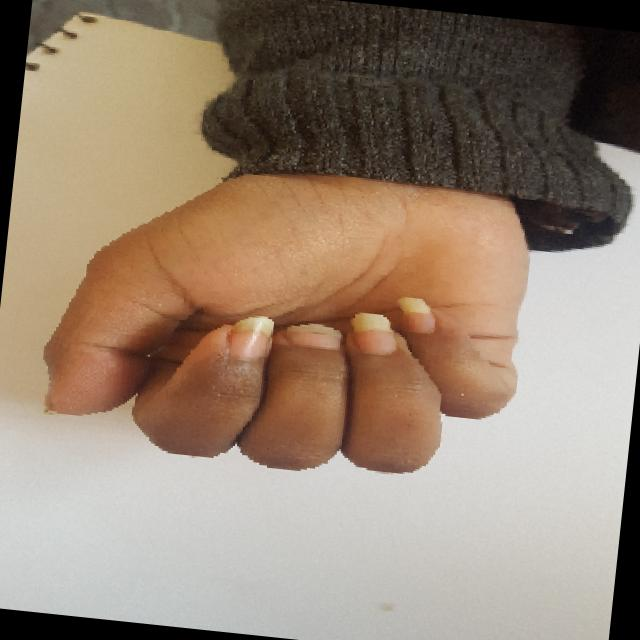Nail: (228, 315, 274, 361), (350, 312, 398, 355), (286, 323, 341, 350), (397, 296, 434, 333)
